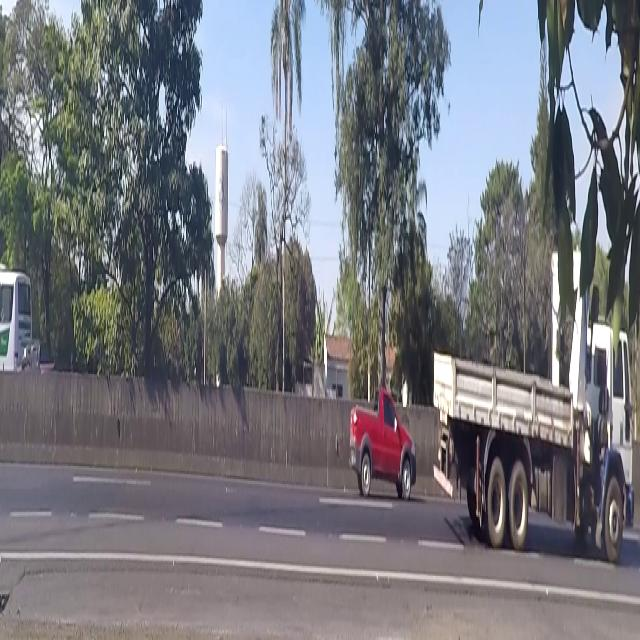-axle: (508, 460, 531, 570), (485, 457, 506, 558), (604, 471, 624, 577)
